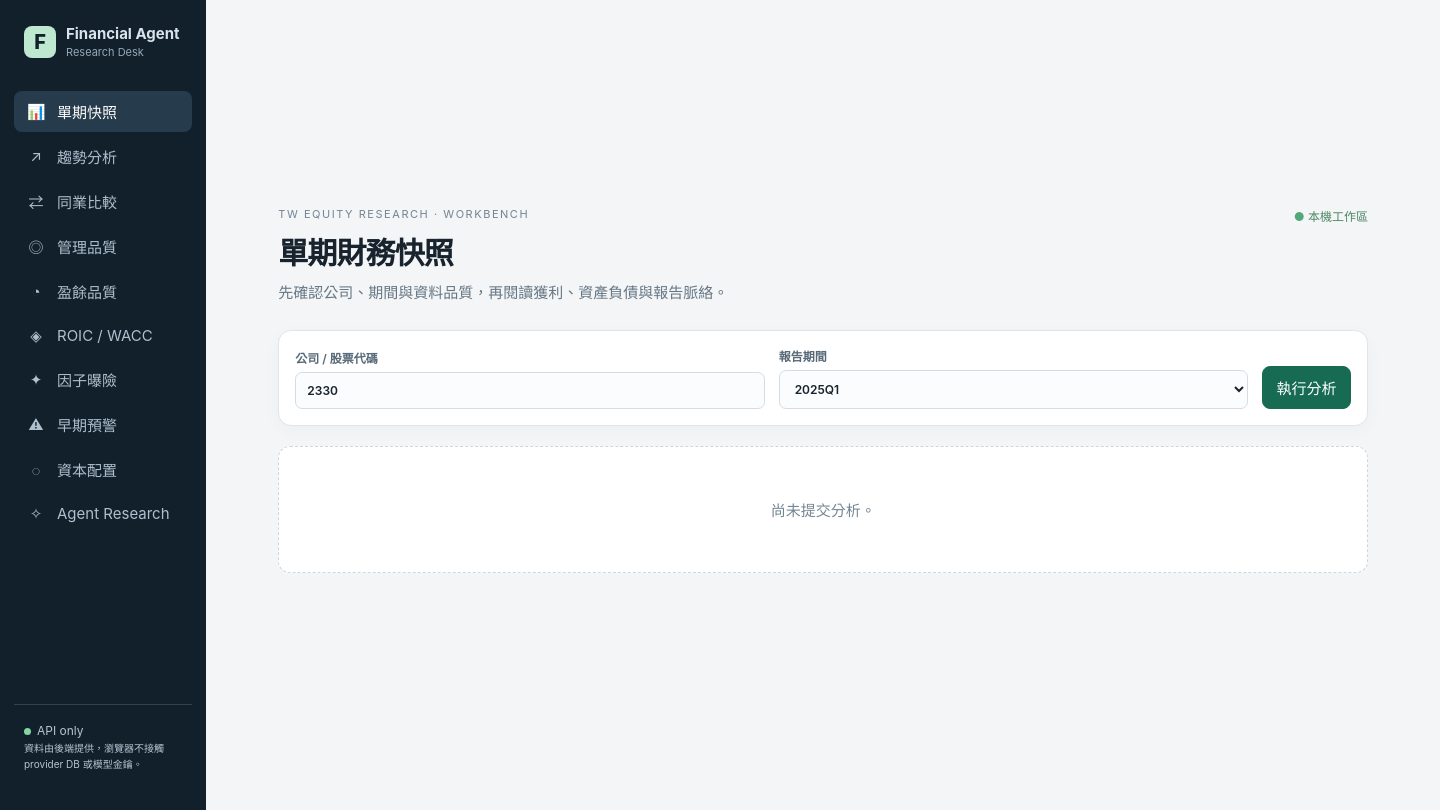
workbench › shows request failure honestly
This screenshot has width=1440, height=810.
Select "2025Q1" in the dropdown labelled "報告期間" at (1013,390), box [779,370,1248,409]
Click the button "執行分析".
click(1306, 387)  # box [1262,366,1351,409]
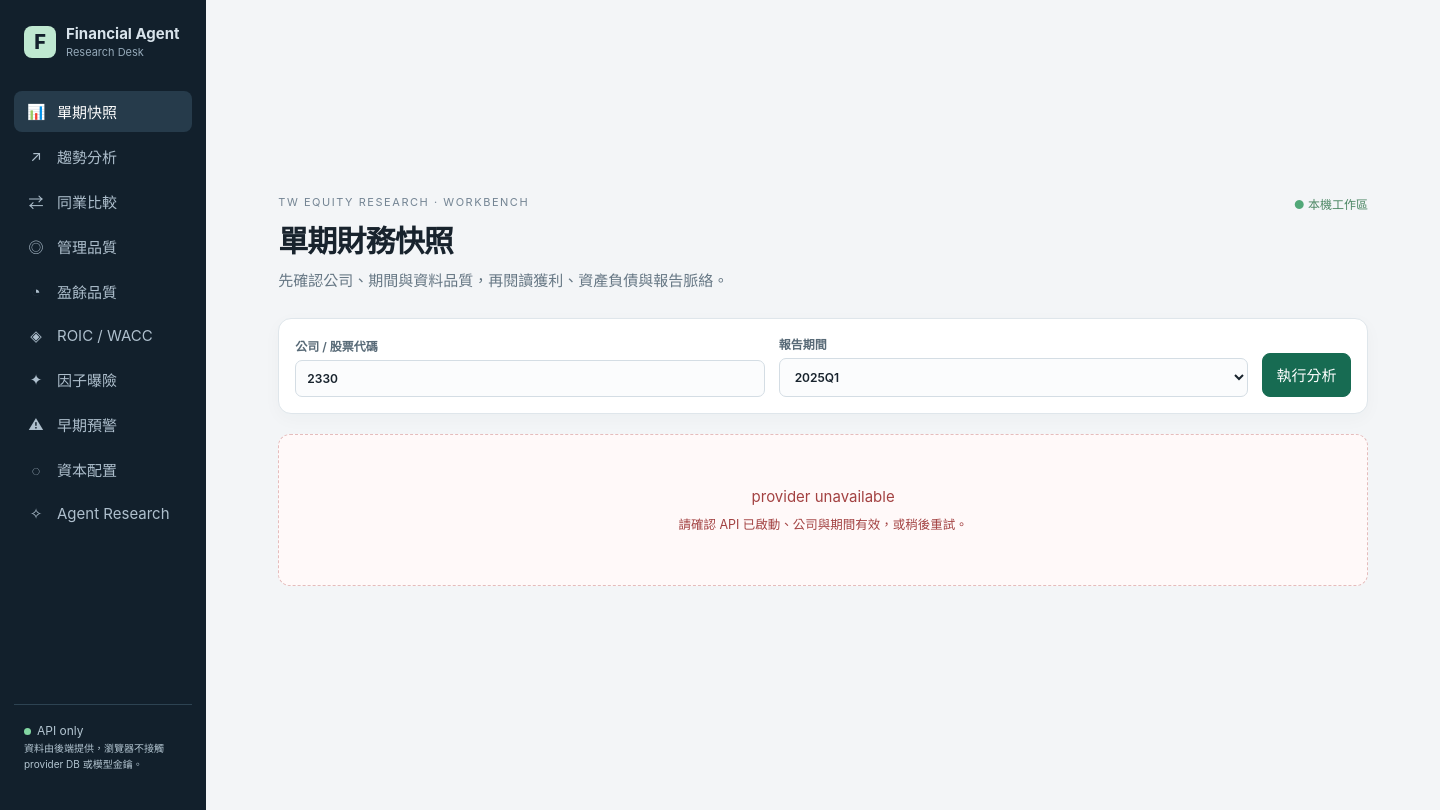
Check: the text "provider unavailable" is shown, box [752,486,895,506]
